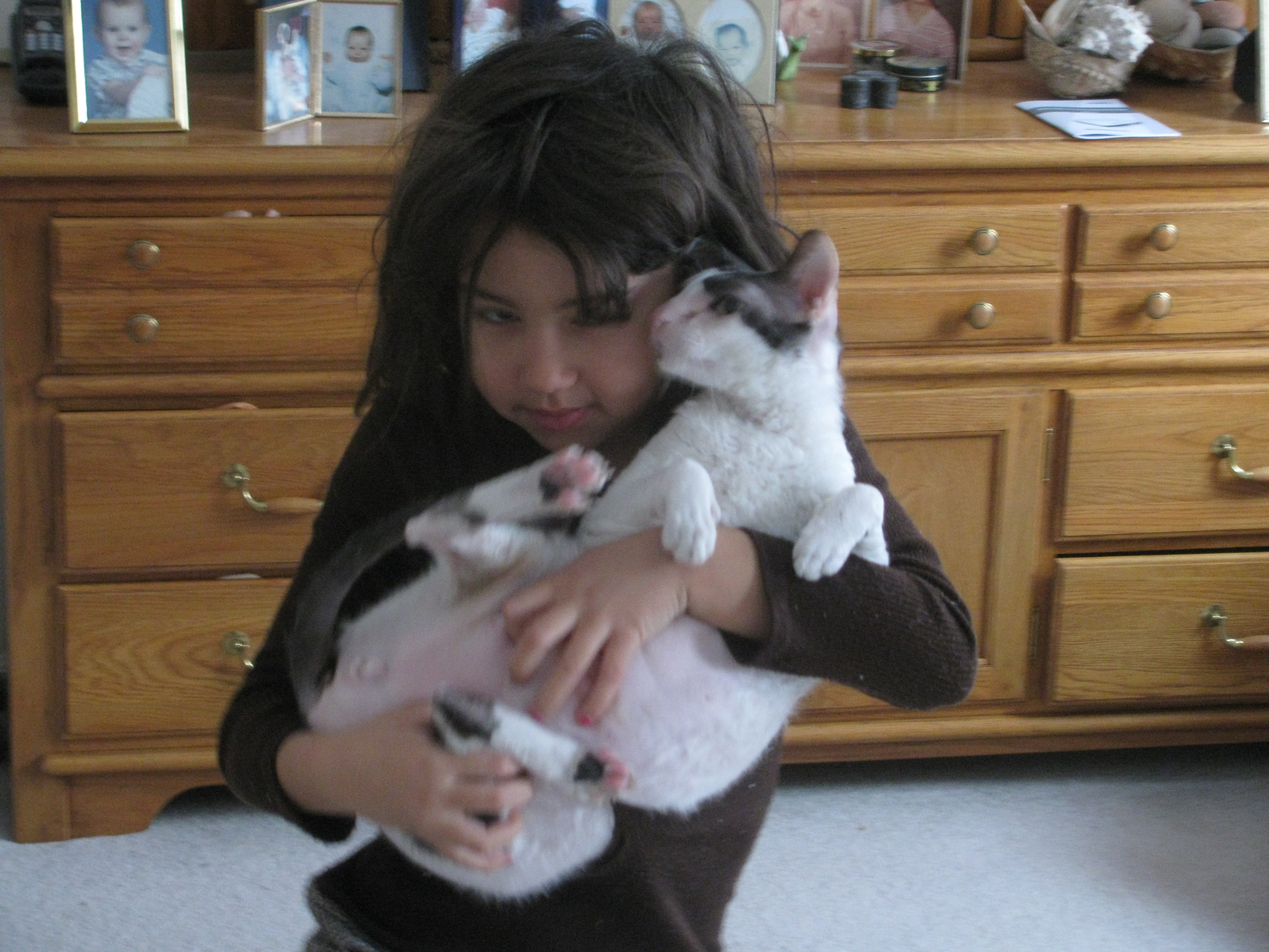cat: (301, 230, 884, 899)
